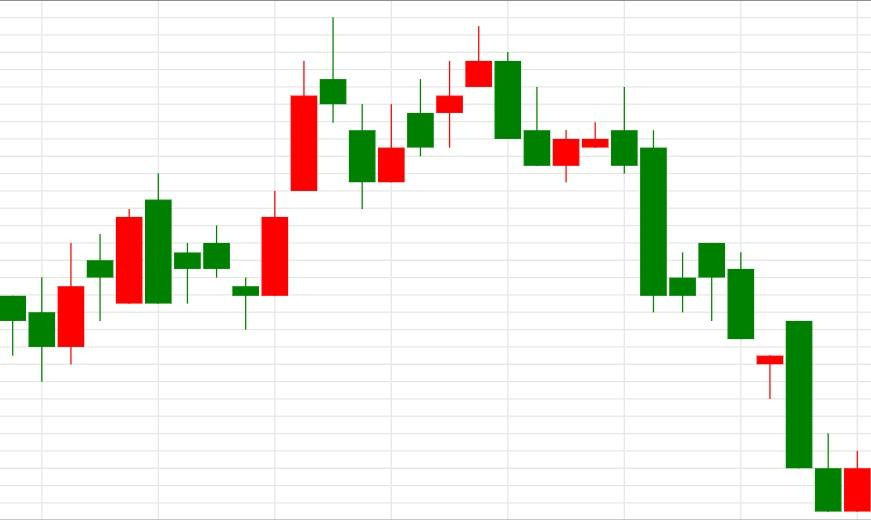shooting_star_fall: (231, 17, 347, 330)
